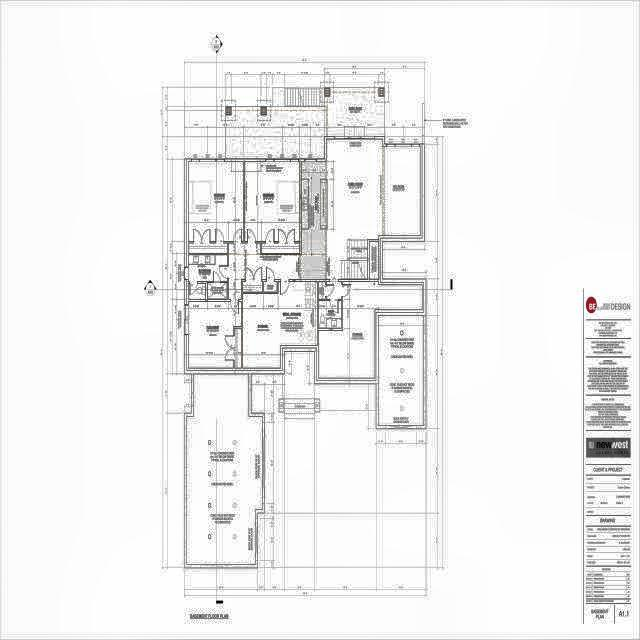room: (188, 162, 243, 241), (245, 162, 300, 241), (188, 302, 241, 368), (189, 255, 227, 282), (318, 301, 342, 328), (208, 283, 227, 299), (189, 283, 206, 299), (326, 282, 341, 299), (243, 282, 263, 292), (318, 282, 325, 299)
